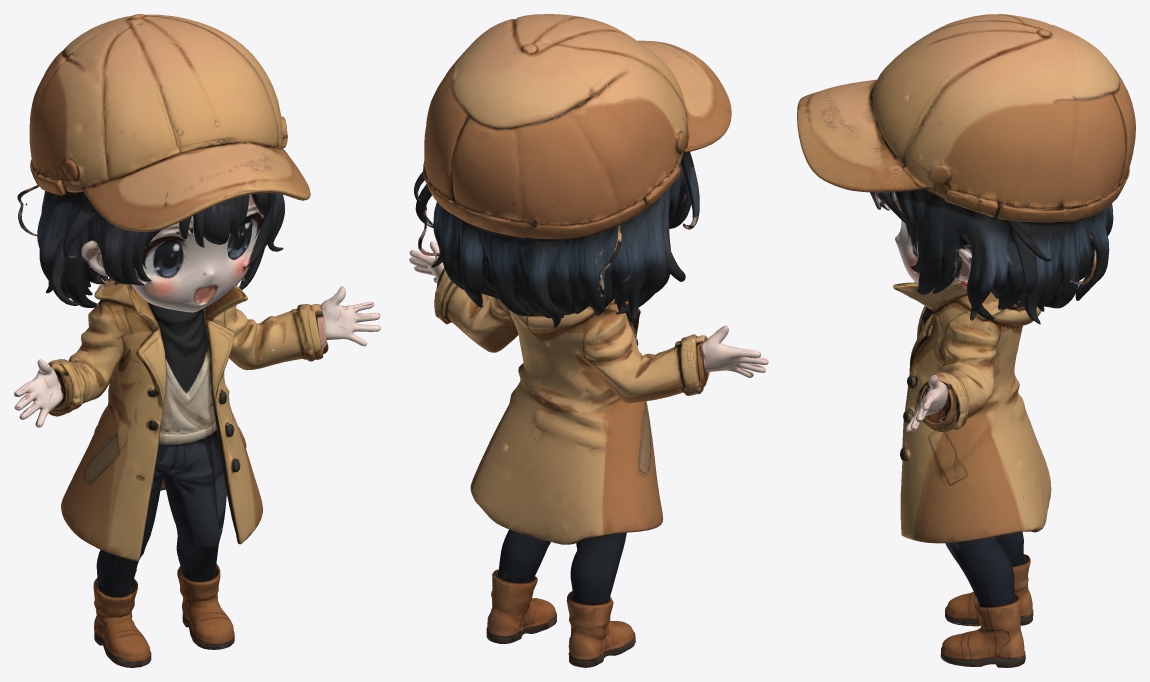
The model's file is misaki.glb.
3 views of the same model, side by side, from view 1: azimuth 30°, elevation 25°; view 2: azimuth 150°, elevation 25°; view 3: azimuth 270°, elevation 25° (orthographic).
Size of the model in its own units: 1.24 by 2 by 1.01.
1 material, 1 textured.
